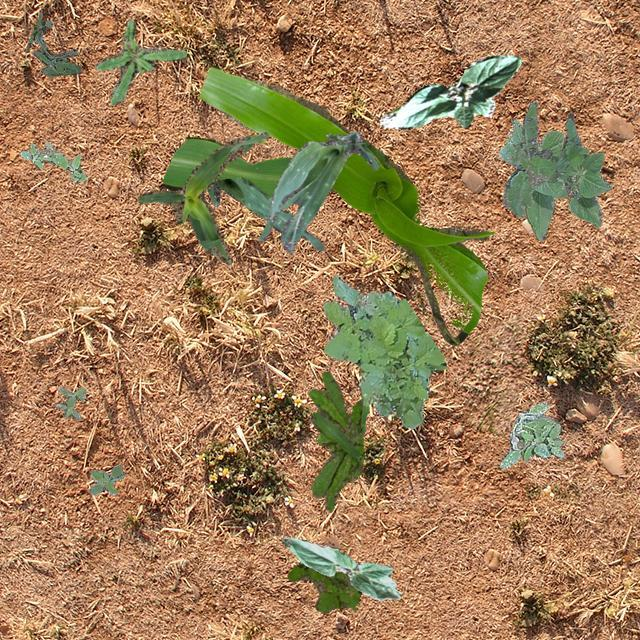crop: (162, 63, 492, 344), (136, 132, 268, 264), (258, 130, 378, 252), (498, 117, 610, 240), (378, 54, 520, 128), (206, 177, 324, 250), (280, 536, 400, 600)
weed: (322, 274, 446, 428), (502, 100, 588, 216), (308, 371, 368, 512), (94, 18, 186, 104), (498, 400, 562, 468), (286, 562, 362, 612), (26, 10, 80, 76), (20, 140, 86, 182), (54, 386, 84, 420), (89, 464, 122, 494)
